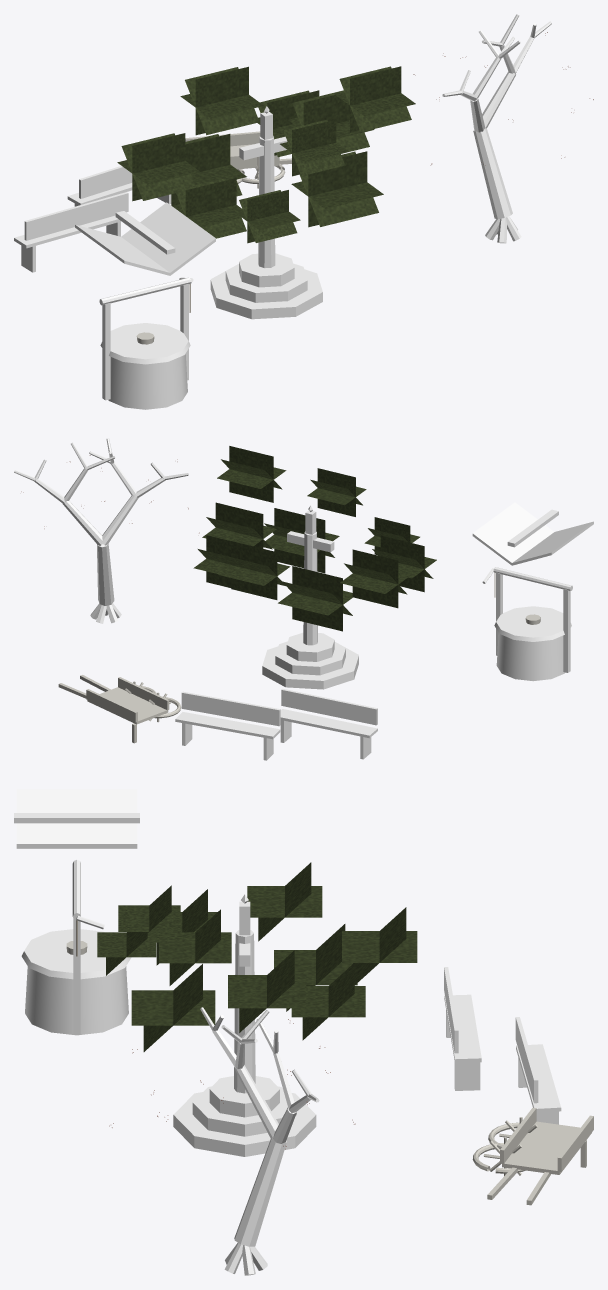
The model's file is tls_env_040_green_v001.fbx.
The picture shows the model from 3 angles, top to bottom: view 1: azimuth 30°, elevation 25°; view 2: azimuth 150°, elevation 25°; view 3: azimuth 270°, elevation 25°; orthographic projection. The views are drawn at different scales.
Visible parts, largest first — view 1: Green_Well, Green_MarketCross, Green_Hawthorn, Green_Bench0, Green_HawLeaf8_b, Green_HawLeaf2_b, Green_HawLeaf4_b, Green_Bench1, Green_HawLeaf9_b, Green_HawLeaf3_b, Green_HawLeaf5_b, Green_HandCart (+20 smaller); view 2: Green_Well, Green_MarketCross, Green_Hawthorn, Green_Bench1, Green_Bench0, Green_HandCart, Green_HawLeaf3_b, Green_HawLeaf2_b, Green_HawLeaf4_b, Green_HawLeaf9_b, Green_HawLeaf8_b, Green_HawLeaf5_b (+15 smaller); view 3: Green_Well, Green_MarketCross, Green_Hawthorn, Green_HandCart, Green_Bench0, Green_Bench1, Green_HawLeaf8_a, Green_HawLeaf0_a, Green_HawLeaf2_a, Green_HawLeaf4_a, Green_HawLeaf9_a, Green_HawLeaf1_a (+12 smaller).
Boxes of the visible parts, bbox=[...] form: Green_Well: bbox=[75, 202, 215, 409]; Green_MarketCross: bbox=[210, 106, 322, 319]; Green_Hawthorn: bbox=[413, 14, 593, 243]; Green_Bench0: bbox=[14, 192, 128, 272]; Green_HawLeaf8_b: bbox=[308, 151, 367, 227]; Green_HawLeaf2_b: bbox=[195, 66, 248, 135]; Green_HawLeaf4_b: bbox=[132, 133, 185, 201]; Green_Bench1: bbox=[67, 166, 171, 206]; Green_HawLeaf9_b: bbox=[350, 66, 401, 132]; Green_HawLeaf3_b: bbox=[171, 134, 230, 205]; Green_HawLeaf5_b: bbox=[185, 178, 236, 216]; Green_HandCart: bbox=[185, 131, 291, 188]; Green_Well: bbox=[472, 502, 593, 681]; Green_MarketCross: bbox=[262, 505, 358, 689]; Green_Hawthorn: bbox=[14, 438, 199, 623]; Green_Bench1: bbox=[175, 691, 280, 760]; Green_Bench0: bbox=[280, 688, 377, 759]; Green_HandCart: bbox=[58, 675, 181, 743]; Green_HawLeaf3_b: bbox=[292, 566, 342, 631]; Green_HawLeaf2_b: bbox=[231, 541, 277, 599]; Green_HawLeaf4_b: bbox=[352, 549, 398, 608]; Green_HawLeaf9_b: bbox=[229, 446, 273, 502]; Green_HawLeaf8_b: bbox=[274, 508, 325, 573]; Green_HawLeaf5_b: bbox=[380, 535, 424, 592]; Green_Well: bbox=[14, 789, 139, 1035]; Green_MarketCross: bbox=[173, 894, 316, 1156]; Green_Hawthorn: bbox=[109, 1007, 355, 1275]; Green_HandCart: bbox=[472, 1107, 593, 1205]; Green_Bench0: bbox=[444, 967, 481, 1090]; Green_Bench1: bbox=[515, 1017, 561, 1124]; Green_HawLeaf8_a: bbox=[131, 990, 215, 1025]; Green_HawLeaf0_a: bbox=[228, 975, 306, 1008]; Green_HawLeaf2_a: bbox=[342, 931, 417, 962]; Green_HawLeaf4_a: bbox=[247, 886, 322, 917]; Green_HawLeaf9_a: bbox=[159, 932, 231, 963]; Green_HawLeaf1_a: bbox=[291, 986, 365, 1017].
Size of what is drawn, in the model's own units: 9.37 by 6.91 by 3.5.
